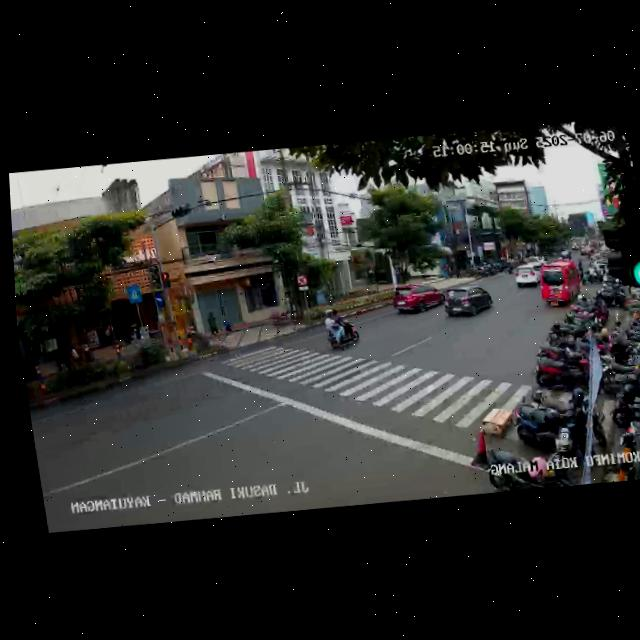car: (536, 259, 586, 309), (439, 283, 495, 323), (390, 282, 446, 316), (512, 263, 542, 291)
motorcycle: (322, 308, 363, 351)
